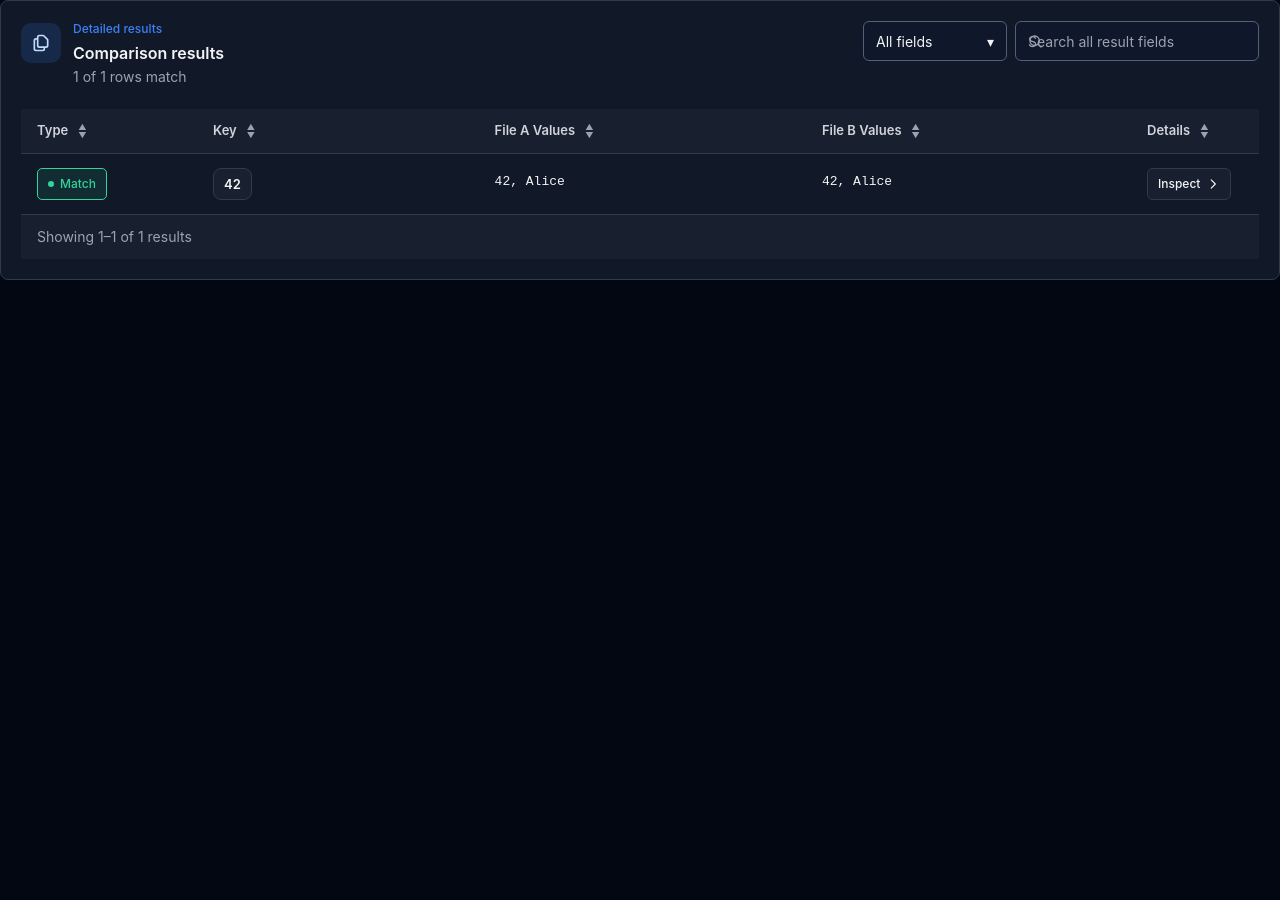
Test: shows overlapping key and comparison pairs in expanded matched results
Click the button "Inspect".
click(1189, 184)  # box [1147, 168, 1231, 200]
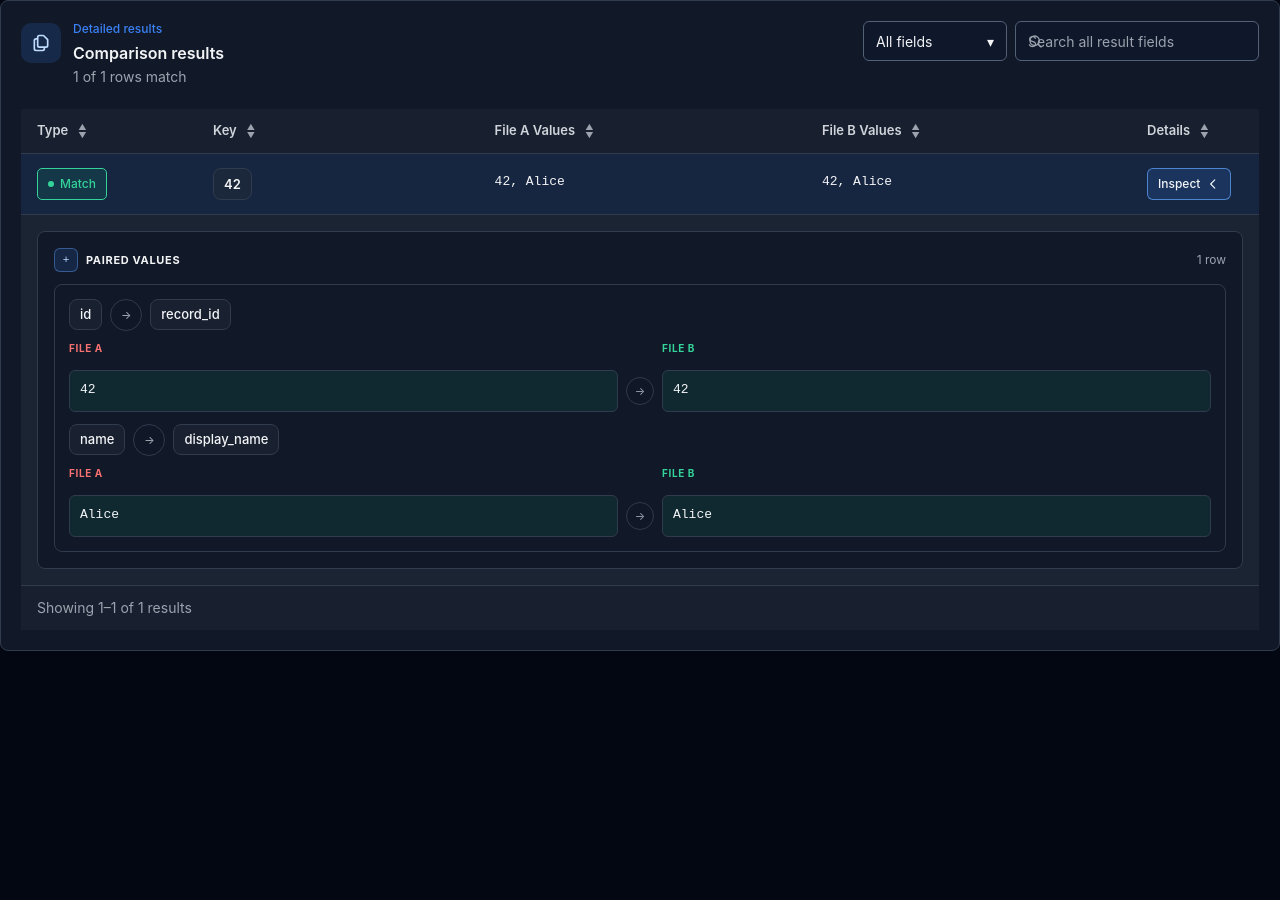
Check: the text "id" is shown, box [69, 299, 102, 330]
Check: the text "record_id" is shown, box [150, 299, 231, 330]
Check: the text "name" is shown, box [69, 424, 125, 455]
